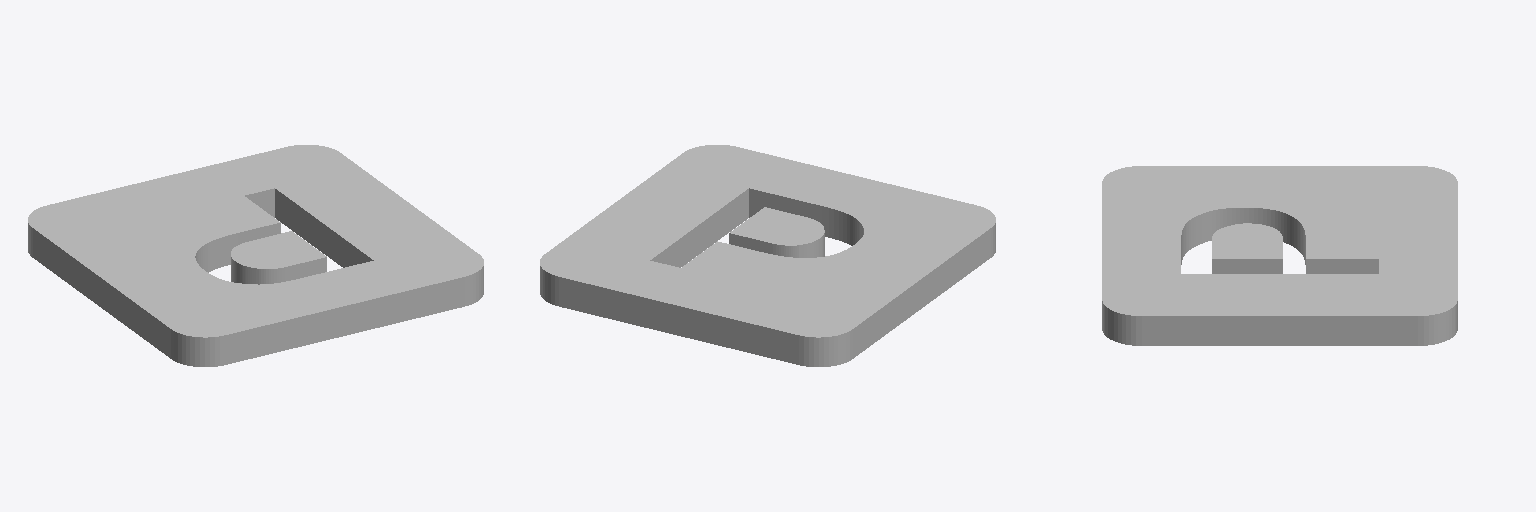
File: correctedPakr1.obj
3 views of the same model, side by side, from view 1: azimuth 30°, elevation 25°; view 2: azimuth 150°, elevation 25°; view 3: azimuth 270°, elevation 25° (orthographic).
Parts seen in each view (by area): view 1: Curve.003_Curve.006; view 2: Curve.003_Curve.006; view 3: Curve.003_Curve.006.
Boxes of the visible parts, box(x1,y1,x2,y2) form: Curve.003_Curve.006: box(28, 145, 483, 366); Curve.003_Curve.006: box(540, 145, 995, 366); Curve.003_Curve.006: box(1102, 166, 1457, 345).
Size of the model in its own units: 1.93 by 0.1784 by 1.93.